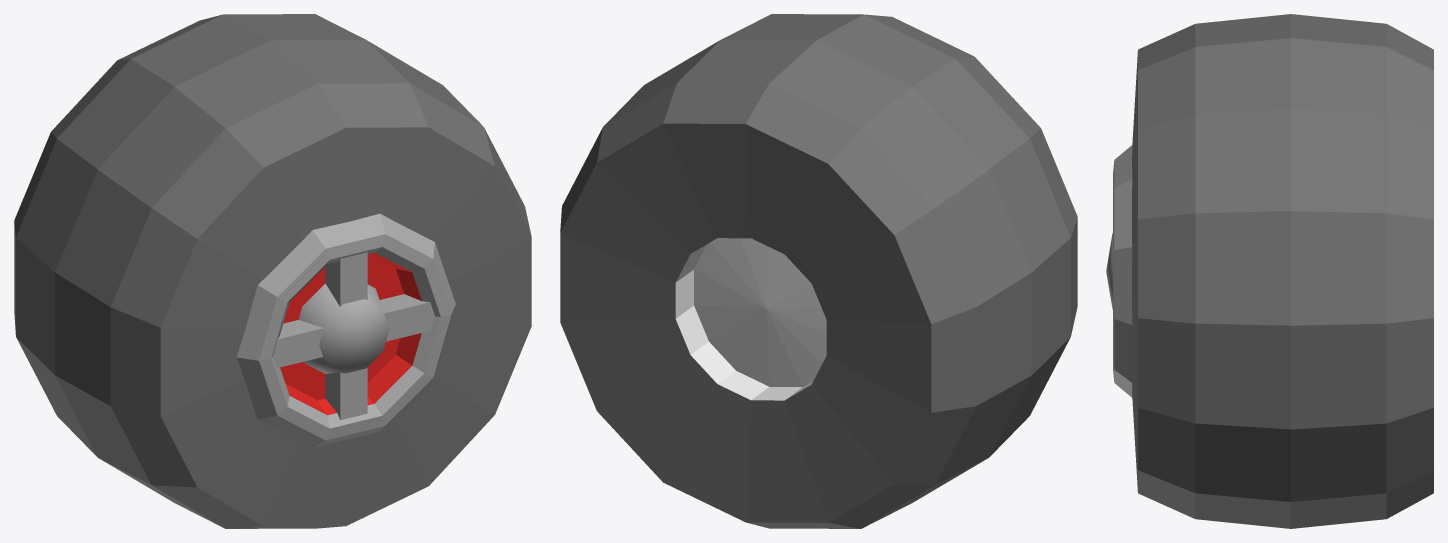
Rendered from wheel2.fbx.
The picture shows the model from 3 angles, left to right: view 1: azimuth 30°, elevation 25°; view 2: azimuth 150°, elevation 25°; view 3: azimuth 270°, elevation 25°; orthographic projection.
Parts seen in each view (by area): view 1: lanot_wheel2_L; view 2: lanot_wheel2_L; view 3: lanot_wheel2_L.
Boxes of the visible parts, left/top/right/bottom form: lanot_wheel2_L: left=14, top=14, right=531, bottom=528; lanot_wheel2_L: left=560, top=14, right=1077, bottom=528; lanot_wheel2_L: left=1106, top=14, right=1433, bottom=528.
Bounding box in the file's own units: 152 × 156 × 99.21.
